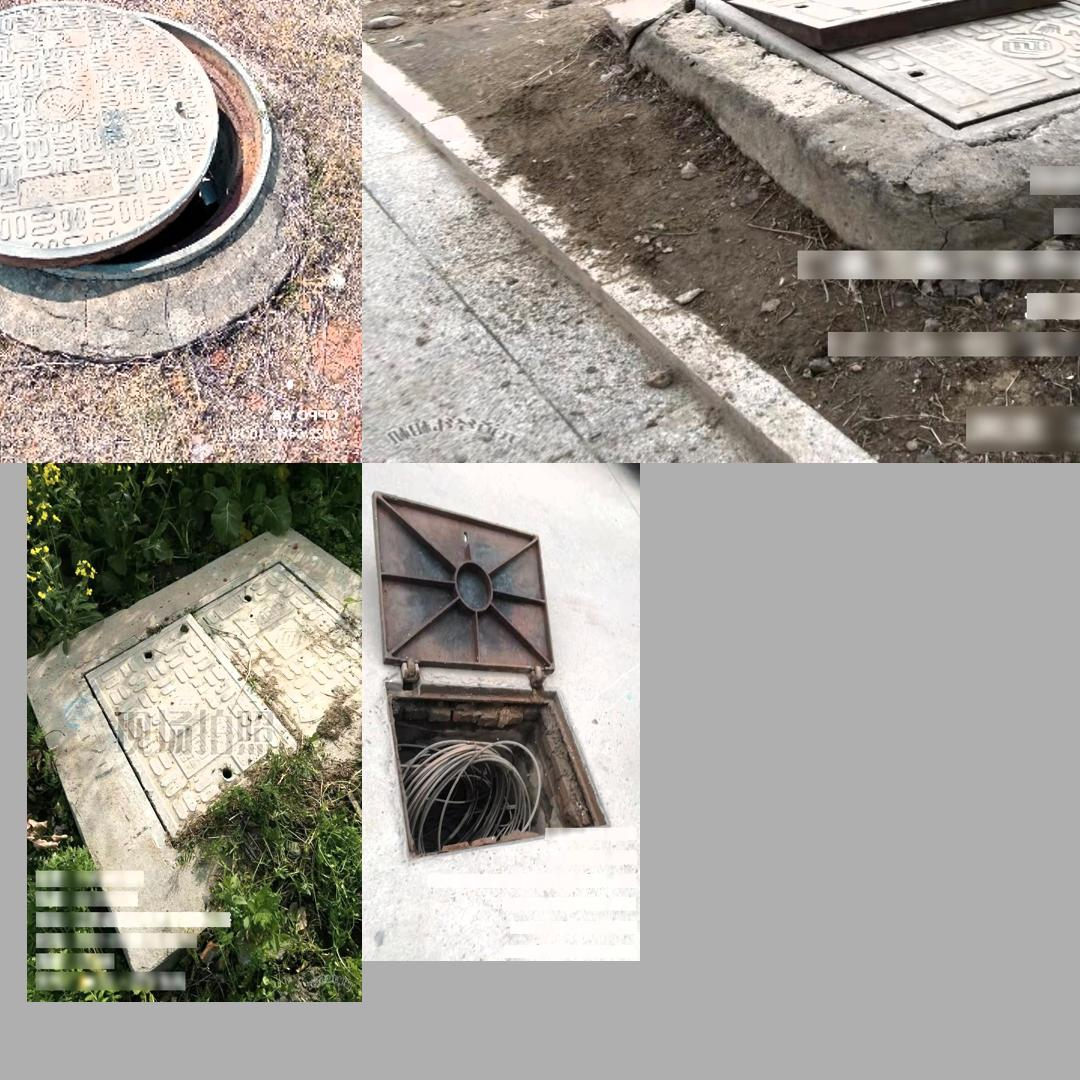uncovered: (372, 491, 606, 863), (75, 555, 362, 858), (0, 0, 277, 282), (651, 0, 1080, 65)
